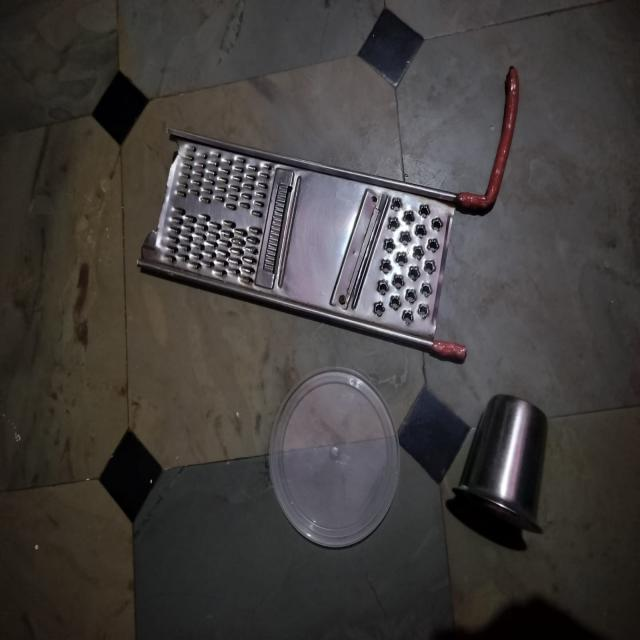metal: (144, 107, 491, 365), (443, 378, 552, 554)
plastic: (236, 388, 411, 546)
